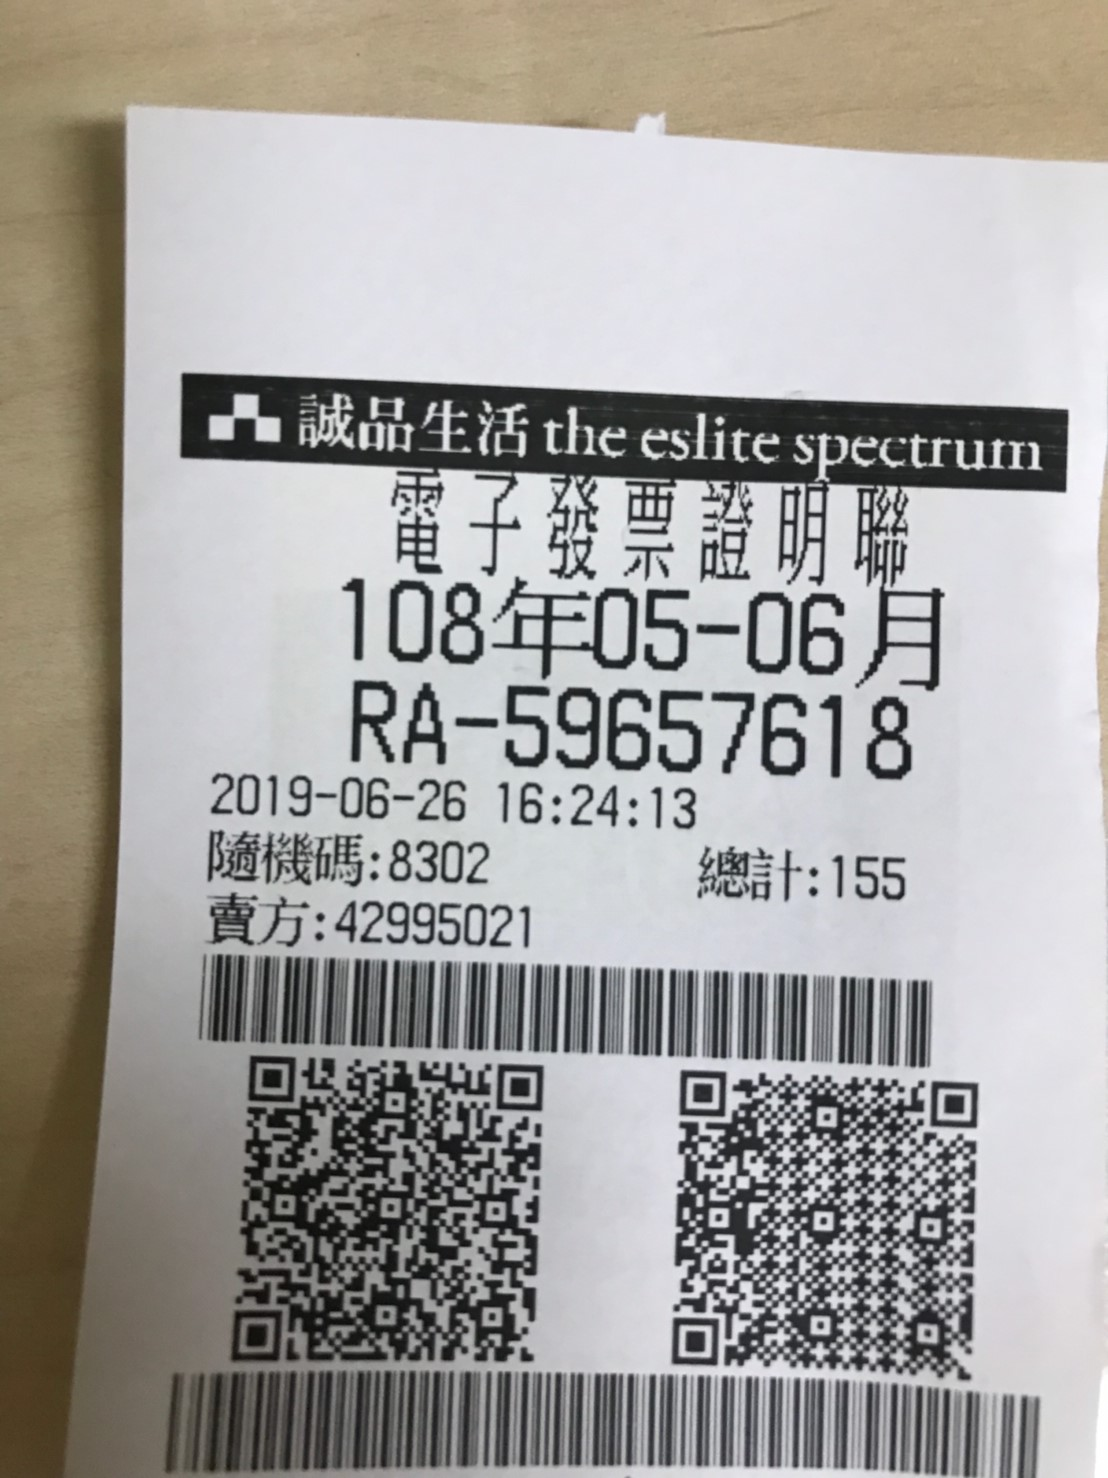Date_New: (341, 574, 945, 695)
Number_New: (504, 678, 917, 777)
